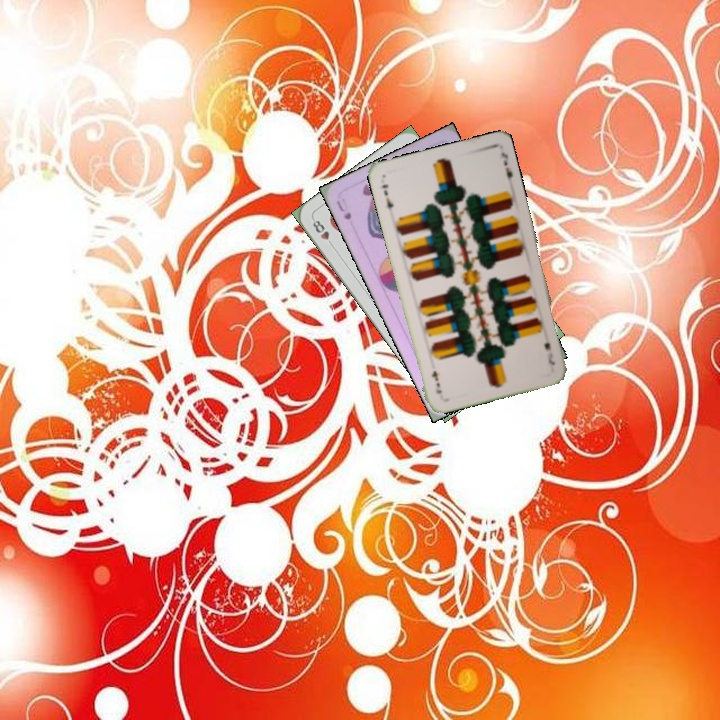E7: (378, 180, 396, 216), (540, 338, 558, 368)
H8: (308, 215, 337, 250)
SU: (332, 194, 354, 223)
